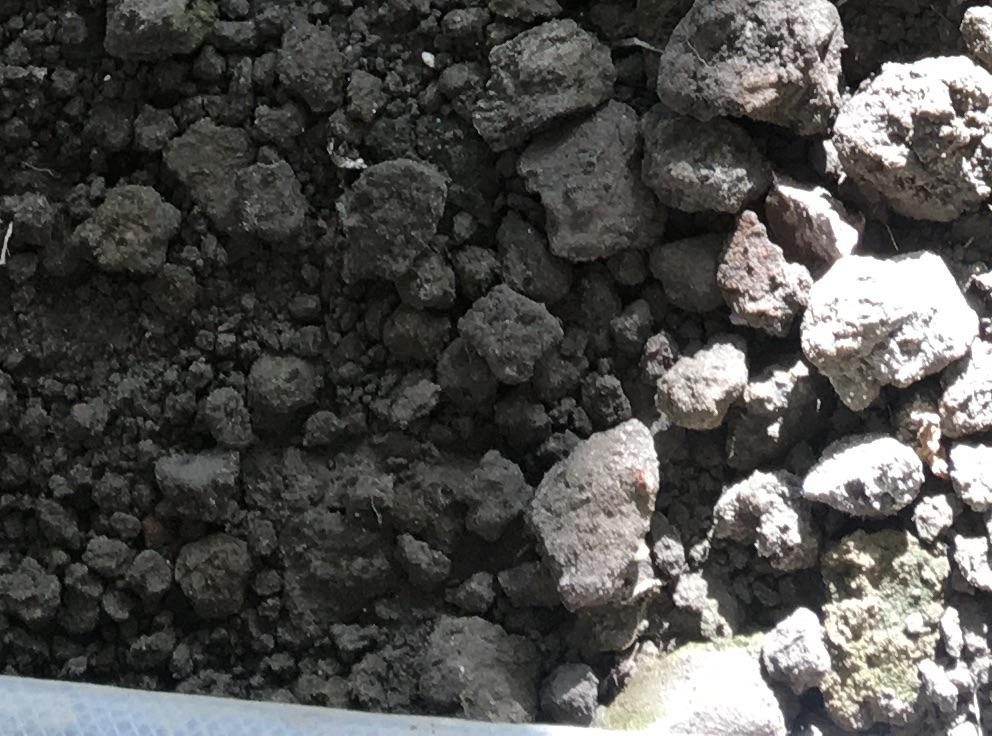block: (520, 418, 673, 614), (800, 252, 978, 413), (652, 2, 844, 142), (837, 54, 992, 224), (515, 104, 665, 264), (471, 20, 618, 150), (335, 158, 449, 284), (798, 430, 918, 520)
